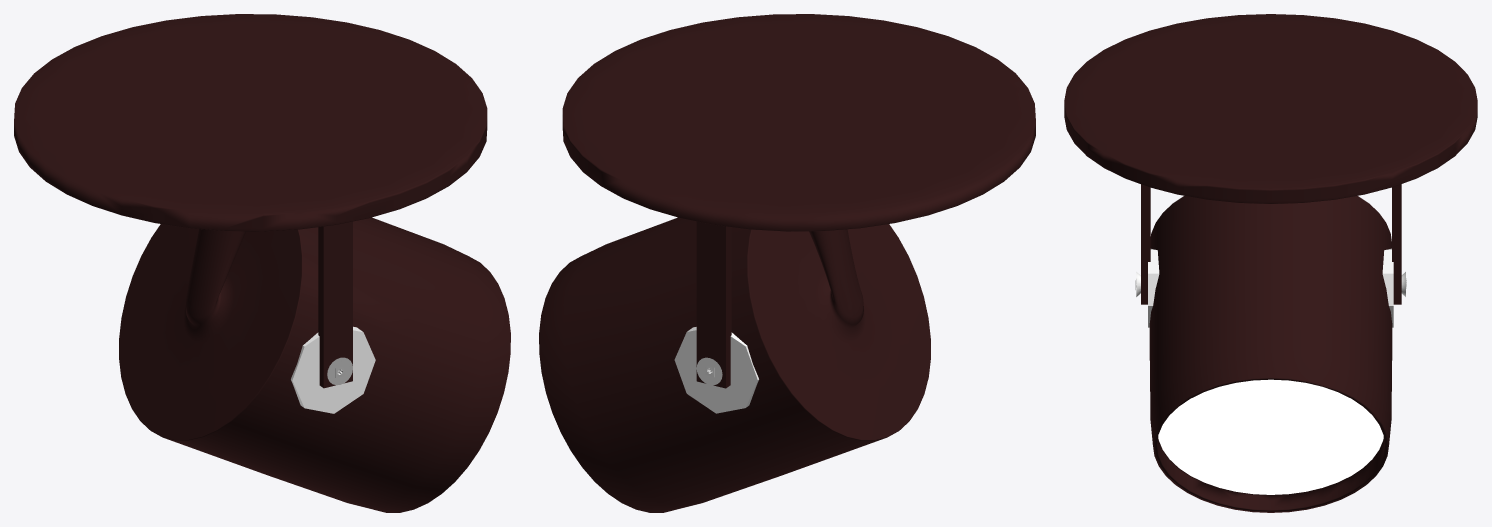
The model's file is spot_light.glb.
The picture shows the model from 3 angles, left to right: view 1: azimuth 30°, elevation 25°; view 2: azimuth 150°, elevation 25°; view 3: azimuth 270°, elevation 25°; orthographic projection. The views are drawn at different scales.
Parts seen in each view (by area): view 1: pCube6_Base_0, pCube6_Pre_0, pCube6_lambert1_0; view 2: pCube6_Base_0, pCube6_Pre_0; view 3: pCube6_Base_0, pCube6_Luz1_0, pCube6_Pre_0.
Part boxes in pixels (left/top/right/bottom): pCube6_Base_0: left=14, top=14, right=510, bottom=512; pCube6_Pre_0: left=291, top=326, right=375, bottom=413; pCube6_lambert1_0: left=327, top=357, right=352, bottom=385; pCube6_Base_0: left=539, top=14, right=1035, bottom=512; pCube6_Pre_0: left=674, top=327, right=758, bottom=413; pCube6_Base_0: left=1064, top=14, right=1477, bottom=512; pCube6_Luz1_0: left=1158, top=379, right=1383, bottom=494; pCube6_Pre_0: left=1136, top=248, right=1406, bottom=327.
Bounding box in the file's own units: 0.4637 × 0.426 × 0.4379.
